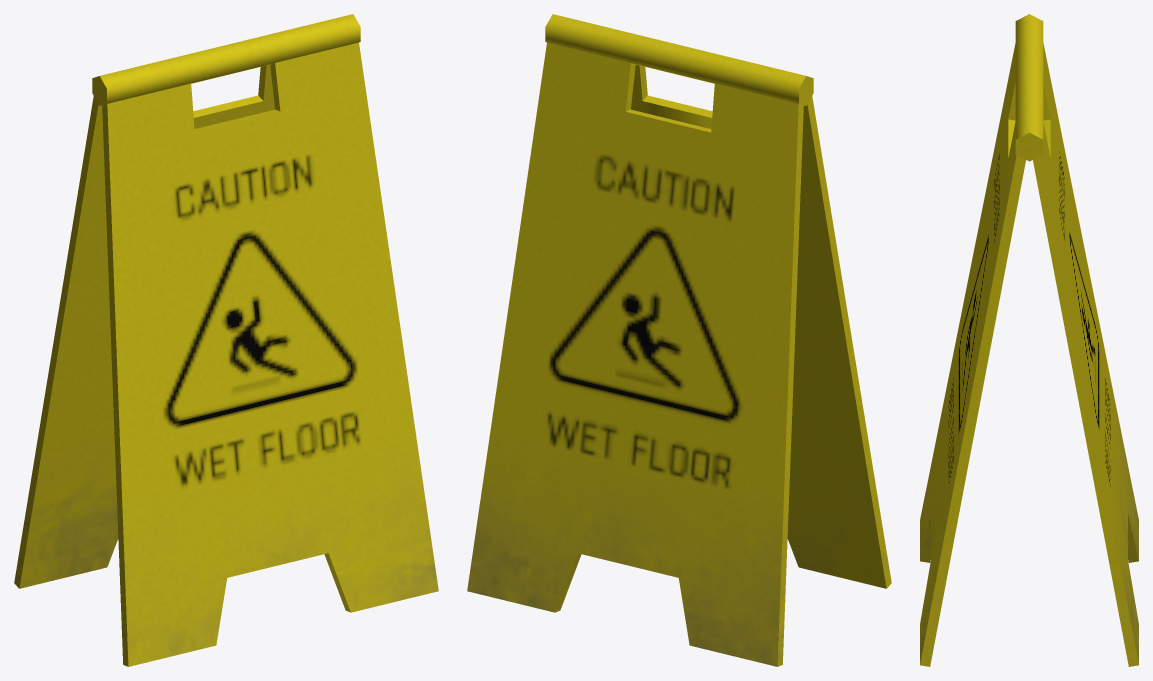
File: WetFloorPlate.FBX
3 renders of one model, left to right at view 1: azimuth 30°, elevation 25°; view 2: azimuth 150°, elevation 25°; view 3: azimuth 270°, elevation 25°, orthographic. The views are drawn at different scales.
Visible parts, largest first — view 1: WetFloorPlate; view 2: WetFloorPlate; view 3: WetFloorPlate.
Boxes of the visible parts, x1,y1,x2,y2 form: WetFloorPlate: (14, 14, 438, 666); WetFloorPlate: (467, 14, 891, 666); WetFloorPlate: (920, 14, 1138, 666).
Bounding box in the file's own units: 11.81 × 19.78 × 7.53.
